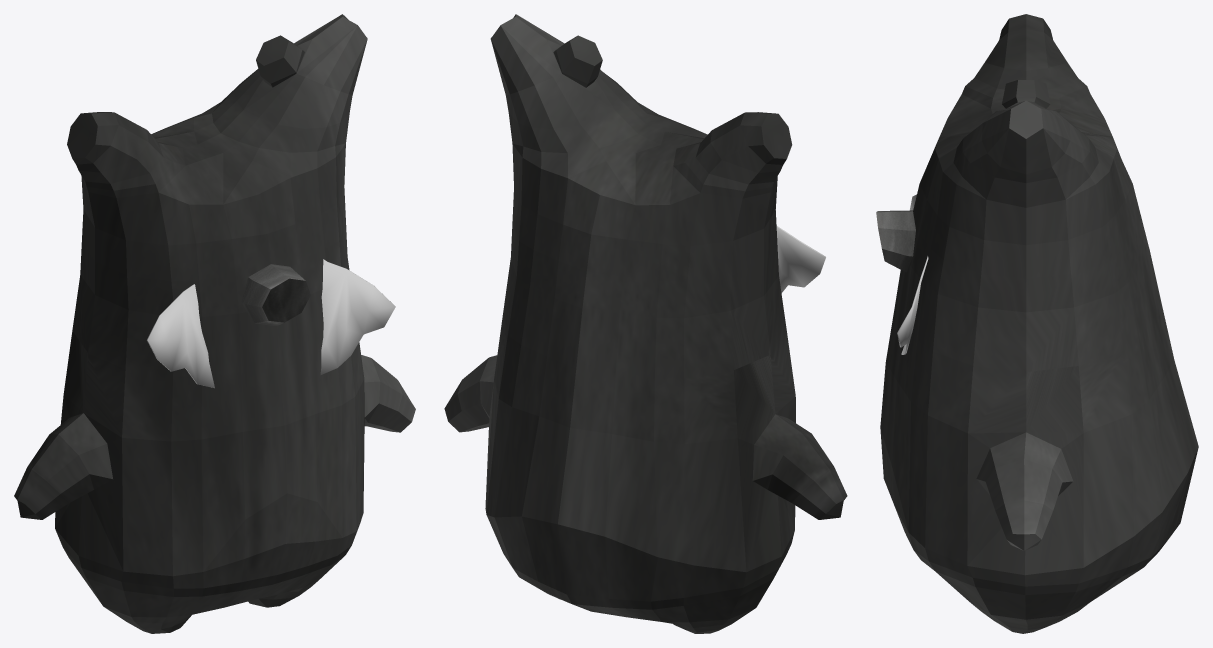
File: frame_0025.obj
The picture shows the model from 3 angles, left to right: view 1: azimuth 30°, elevation 25°; view 2: azimuth 150°, elevation 25°; view 3: azimuth 270°, elevation 25°; orthographic projection.
Visible parts, largest first — view 1: korok, leaf, nose; view 2: korok, leaf; view 3: korok, nose, leaf.
Boxes of the visible parts, x1,y1,x2,y2 form: korok: (14,14,415,633); leaf: (147,259,395,388); nose: (241,264,310,325); korok: (444,14,847,633); leaf: (776,226,825,293); korok: (880,14,1198,633); nose: (876,210,915,272); leaf: (897,194,928,354).
Bounding box in the file's own units: 1.66 × 2.29 × 1.18.
